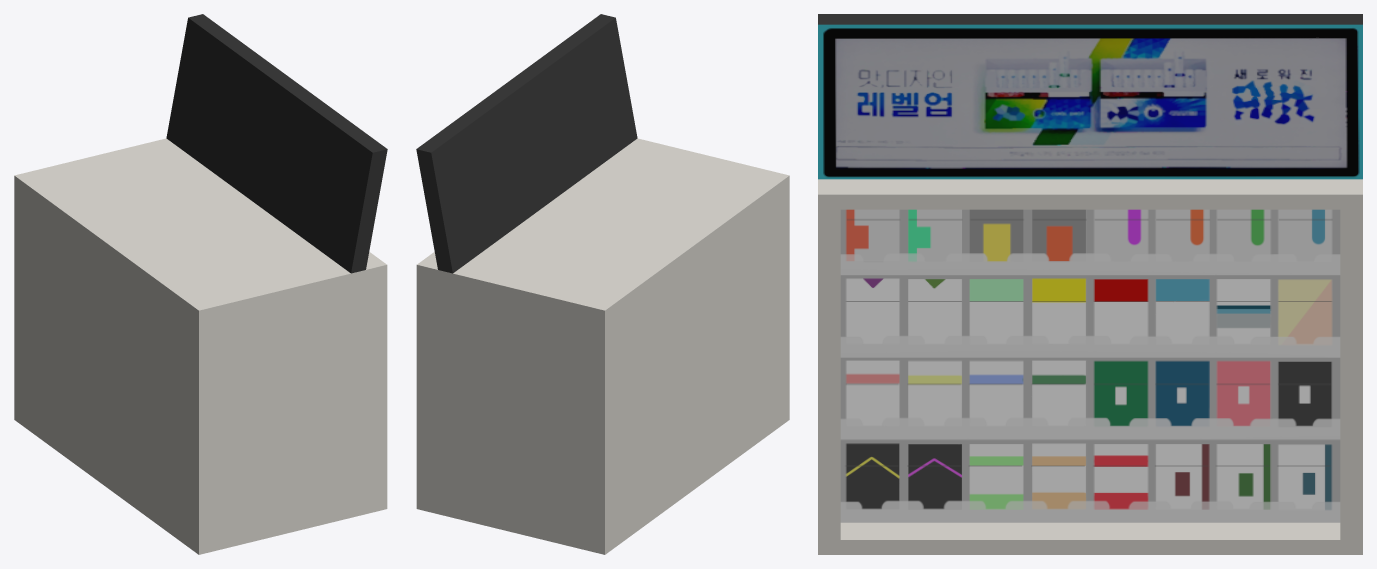
Rendered from fbx_cigarettedisplay_2.fbx.
3 views of the same model, side by side, from view 1: azimuth 30°, elevation 25°; view 2: azimuth 150°, elevation 25°; view 3: azimuth 270°, elevation 25° (orthographic). The views are drawn at different scales.
Parts seen in each view (by area): view 1: fbx_cigarettedisplay_2; view 2: fbx_cigarettedisplay_2; view 3: fbx_cigarettedisplay_2.
Boxes of the visible parts, x1=… form: fbx_cigarettedisplay_2: x1=14, y1=14, x2=387, y2=554; fbx_cigarettedisplay_2: x1=416, y1=14, x2=789, y2=554; fbx_cigarettedisplay_2: x1=818, y1=14, x2=1362, y2=554.
Bounding box in the file's own units: 1.24 × 2.26 × 2.1.
1 material, 1 textured.
